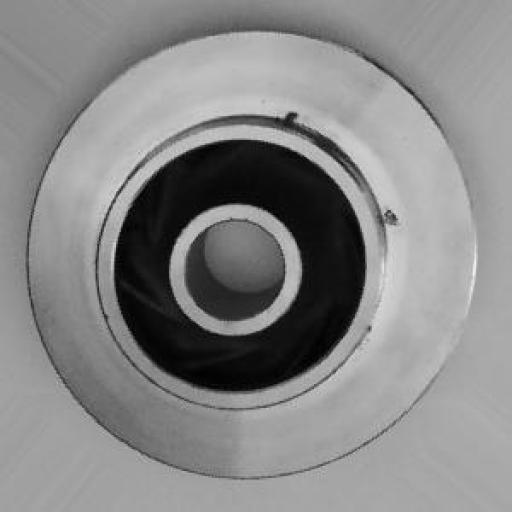defect: (252, 82, 417, 264)
